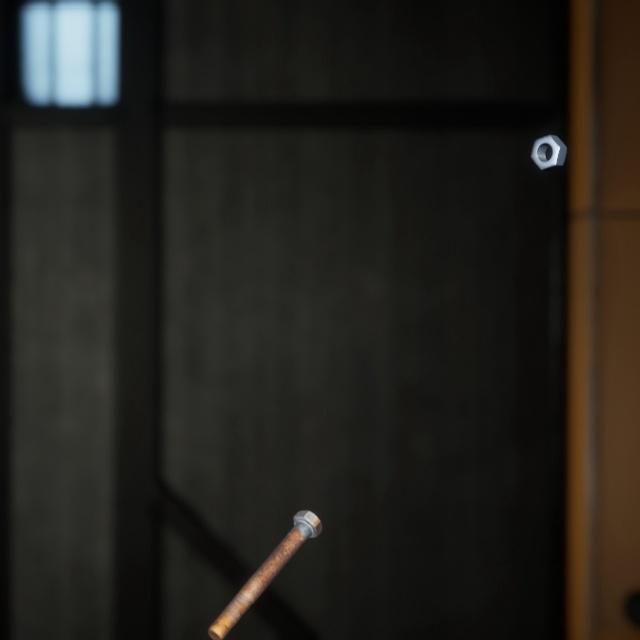bolt: (203, 483, 326, 621)
nut: (526, 117, 571, 161)
